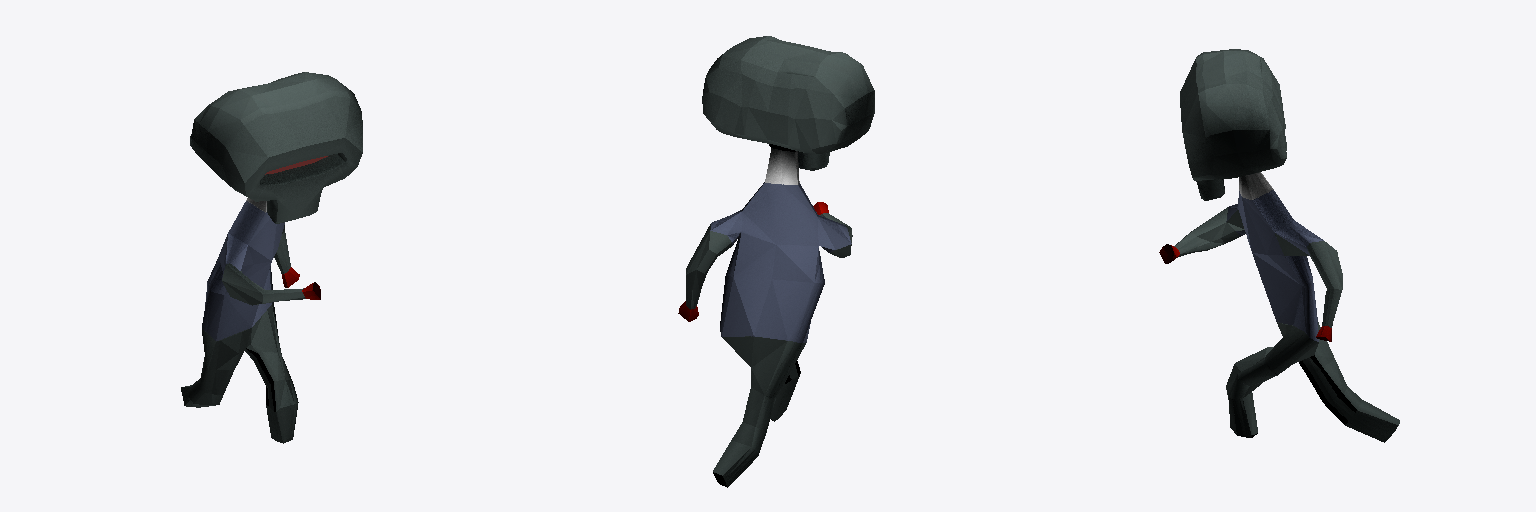
The picture shows the model from 3 angles: view 1: azimuth 30°, elevation 25°; view 2: azimuth 150°, elevation 25°; view 3: azimuth 270°, elevation 25°; orthographic projection.
Visible parts, largest first — view 1: Plane; view 2: Plane; view 3: Plane.
Part boxes in pixels (left/top/right/bottom): Plane: left=181, top=72, right=362, bottom=443; Plane: left=678, top=36, right=874, bottom=487; Plane: left=1159, top=49, right=1399, bottom=442.
Bounding box in the file's own units: 3.44 × 8.36 × 4.84.
6 materials, 1 textured.